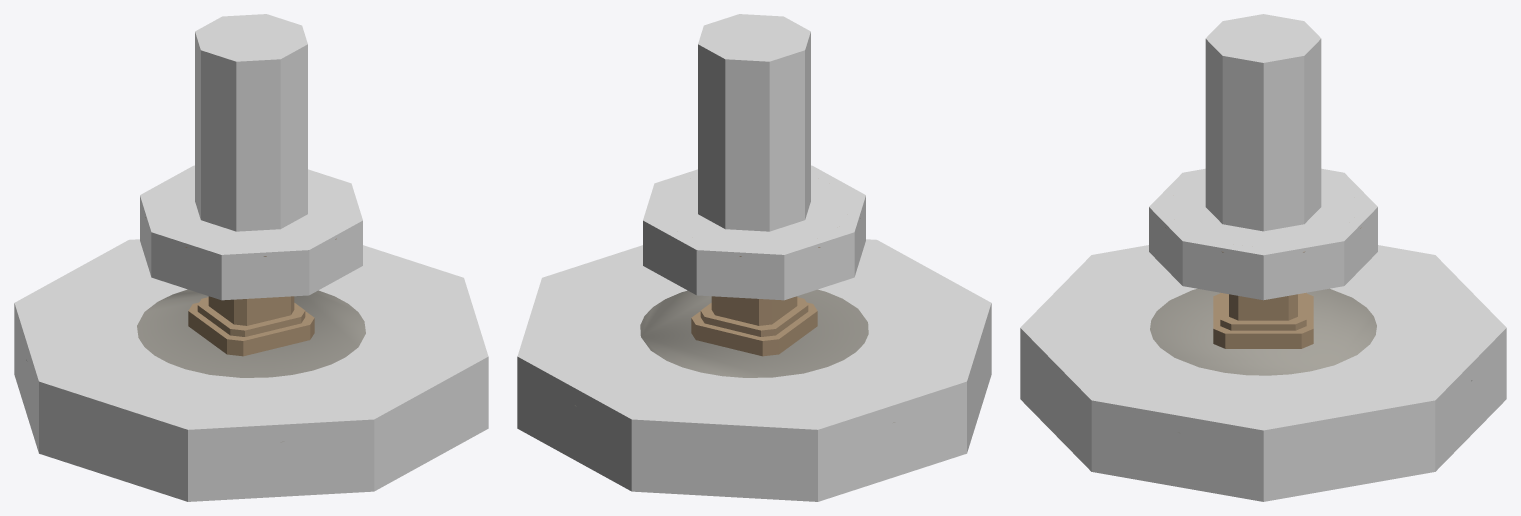
Rendered from gartenbrunnen.glb.
3 renders of one model, left to right at view 1: azimuth 30°, elevation 25°; view 2: azimuth 150°, elevation 25°; view 3: azimuth 270°, elevation 25°, orthographic.
Visible parts, largest first — view 1: COL_HULL_0, COL_HULL_2, COL_HULL_1, brunnen_garten; view 2: COL_HULL_0, COL_HULL_2, COL_HULL_1, brunnen_garten; view 3: COL_HULL_0, COL_HULL_2, COL_HULL_1, brunnen_garten.
Part boxes in pixels (x1=…): COL_HULL_0: x1=14, y1=239, x2=488, y2=501; COL_HULL_2: x1=195, y1=14, x2=307, y2=231; COL_HULL_1: x1=140, y1=165, x2=362, y2=300; brunnen_garten: x1=26, y1=217, x2=365, y2=442; COL_HULL_0: x1=517, y1=239, x2=991, y2=501; COL_HULL_2: x1=698, y1=14, x2=810, y2=231; COL_HULL_1: x1=643, y1=165, x2=865, y2=300; brunnen_garten: x1=575, y1=238, x2=895, y2=422; COL_HULL_0: x1=1020, y1=245, x2=1506, y2=501; COL_HULL_2: x1=1205, y1=14, x2=1321, y2=231; COL_HULL_1: x1=1149, y1=168, x2=1377, y2=300; brunnen_garten: x1=1150, y1=227, x2=1471, y2=433.
Bounding box in the file's own units: 4.07 × 3.33 × 4.07.
